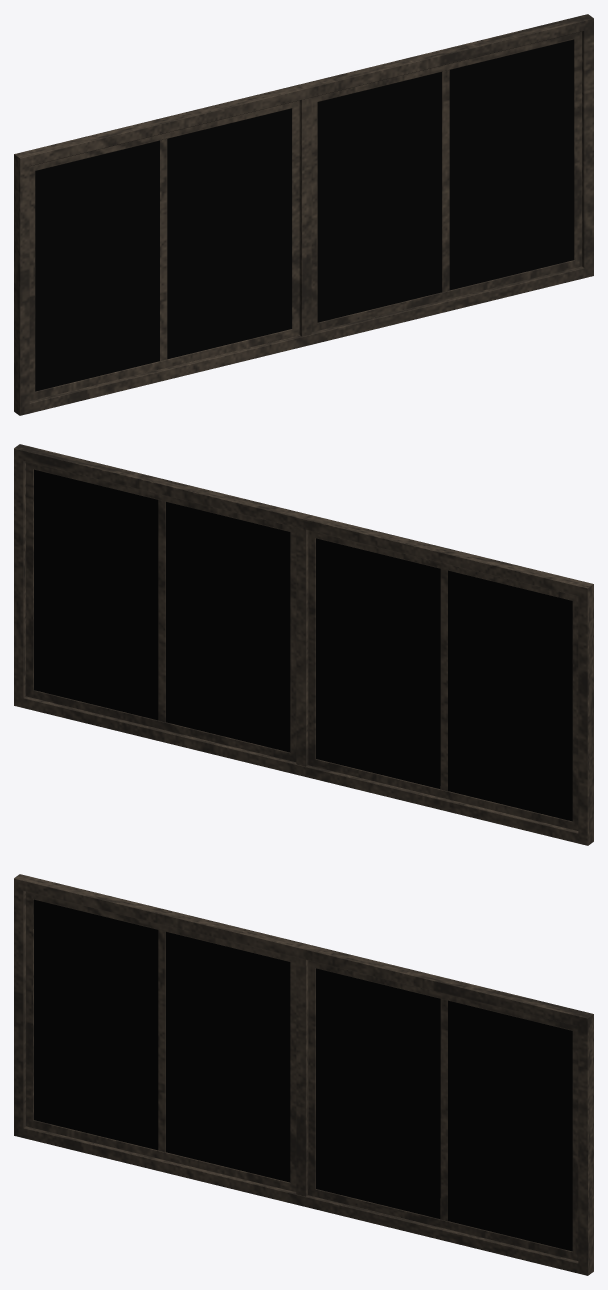
File: WindowFactory65507.spawn_asset9.glb
3 renders of one model, top to bottom at view 1: azimuth 30°, elevation 25°; view 2: azimuth 150°, elevation 25°; view 3: azimuth 330°, elevation 25°, orthographic.
Visible parts, largest first — view 1: WindowFactory(65507).spawn_asset(9).001; view 2: WindowFactory(65507).spawn_asset(9).001; view 3: WindowFactory(65507).spawn_asset(9).001.
Part boxes in pixels (bbox=[...]): WindowFactory(65507).spawn_asset(9).001: bbox=[14, 14, 593, 415]; WindowFactory(65507).spawn_asset(9).001: bbox=[14, 444, 593, 845]; WindowFactory(65507).spawn_asset(9).001: bbox=[14, 874, 593, 1275].
Size of the model in its own units: 3.34 by 1.43 by 0.0622.
Materials: 1 (1 with a texture image).
